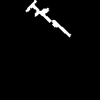double_crochet: (26, 0, 70, 36)
